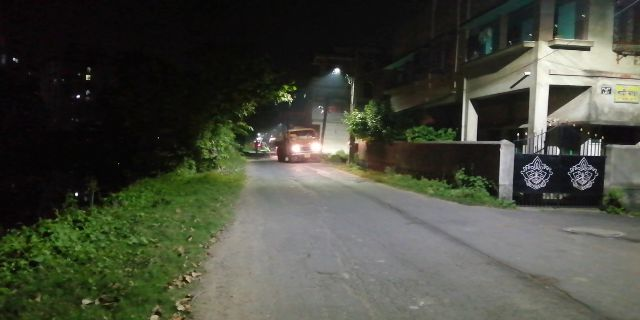Truck: (282, 128, 322, 162)
